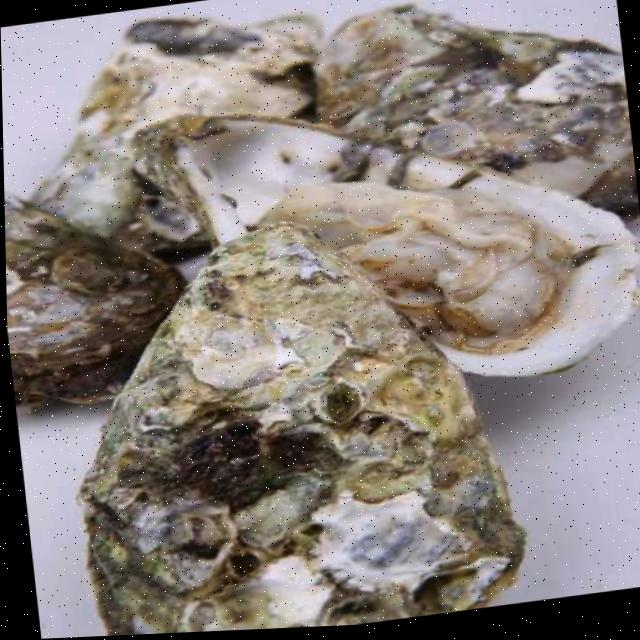Oyster-Indeterminate: (51, 192, 532, 638), (12, 0, 343, 287), (307, 0, 640, 254), (4, 159, 199, 416)
Oyster-Open: (124, 56, 640, 429)
